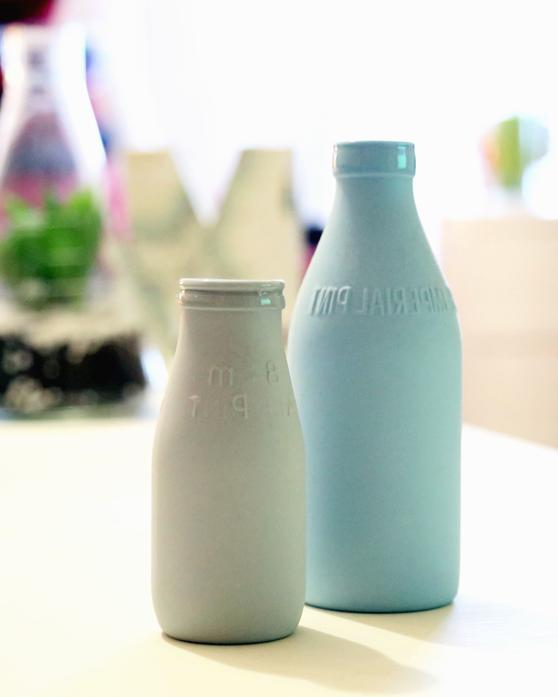milk: (140, 269, 310, 648)
